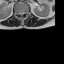CCS_normal: (20, 10, 22, 18)
LFS_normal: (24, 10, 26, 15)
LLS_normal: (22, 10, 24, 16)
RFS_normal: (17, 10, 18, 16)
RLS_normal: (18, 10, 20, 16)
